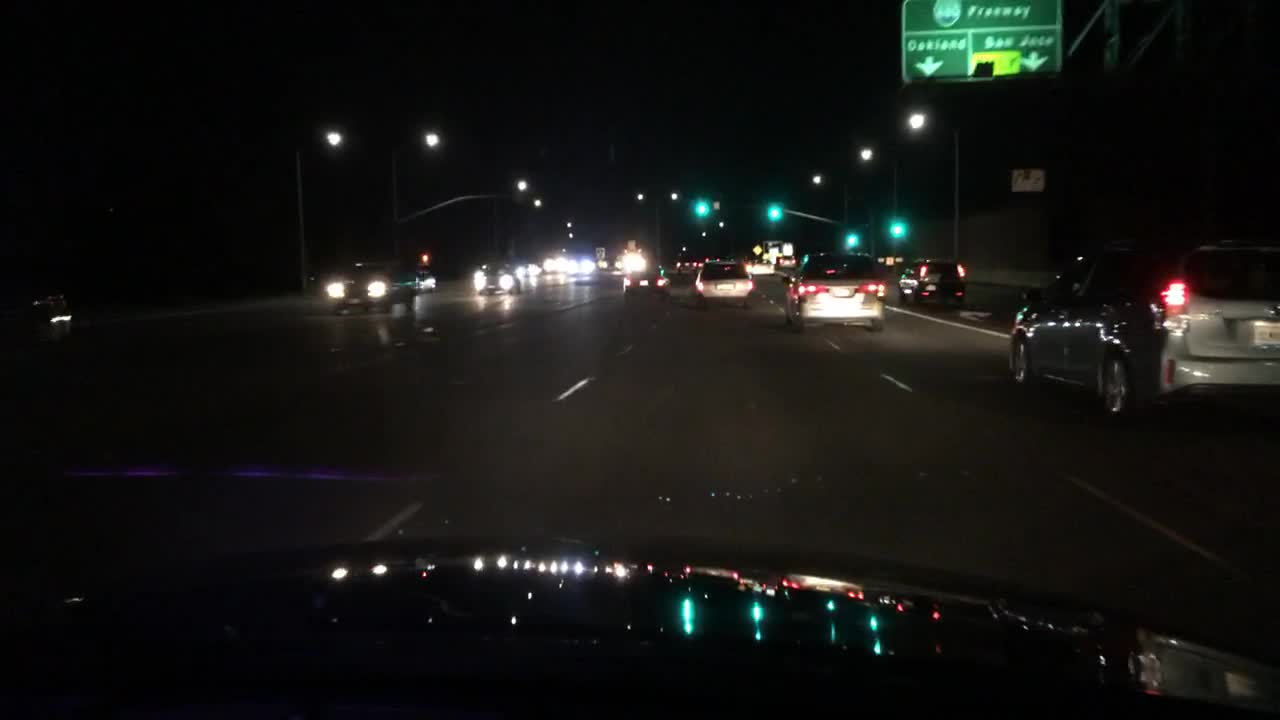car: (1004, 234, 1277, 415), (0, 251, 111, 357), (778, 249, 891, 327), (327, 259, 425, 320), (897, 259, 970, 307), (692, 259, 752, 303), (616, 263, 670, 300), (471, 263, 523, 296), (568, 253, 600, 285), (408, 268, 435, 291), (877, 253, 904, 273), (511, 264, 543, 280), (543, 253, 568, 273), (746, 258, 773, 275), (597, 256, 619, 273), (622, 258, 644, 273), (676, 259, 695, 273), (778, 254, 798, 266), (695, 258, 712, 271), (595, 246, 602, 263)
traffic light: (769, 205, 779, 226), (697, 197, 705, 219), (894, 219, 901, 244), (847, 234, 855, 253), (422, 253, 428, 273)
traffic sign: (901, 3, 1059, 77), (1014, 167, 1043, 195), (752, 242, 762, 259)
